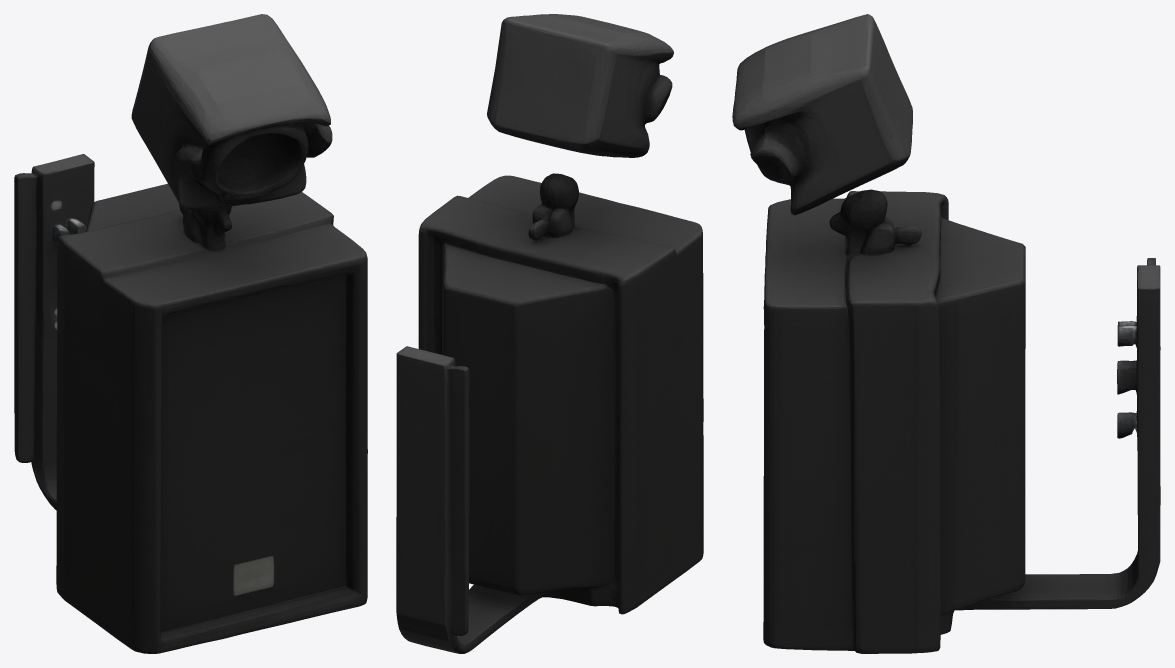
The model's file is Speaker.fbx.
3 renders of one model, left to right at view 1: azimuth 30°, elevation 25°; view 2: azimuth 150°, elevation 25°; view 3: azimuth 270°, elevation 25°, orthographic. The views are drawn at different scales.
Visible parts, largest first — view 1: world; view 2: world; view 3: world.
Boxes of the visible parts, x1,y1,x2,y2 form: world: (14,14,367,653); world: (396,14,703,653); world: (732,14,1160,653).
Bounding box in the file's own units: 43.23 × 99.97 × 69.48.
